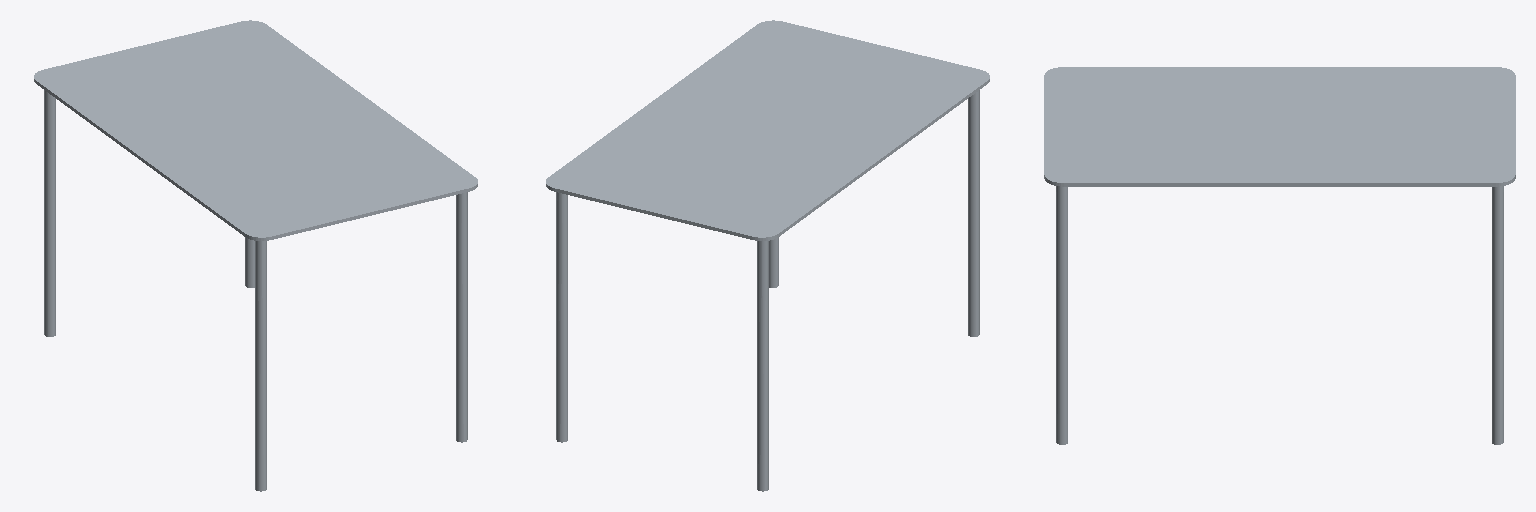
robot.urdf — worktable_120cm:
<?xml version='1.0' encoding='utf-8'?>
<robot name="worktable_120cm">
  <link name="worktable_120cm_base">
    <visual name="part_00">
      <geometry>
        <mesh filename="../meshes/part_00.stl" />
      </geometry>
      <material name="part_00_color">
        <color rgba="0.72 0.75 0.78 1" />
      </material>
    </visual>
  </link>
</robot>

--- Render facts (derived) ---
The picture shows the robot from 3 angles, left to right: view 1: azimuth 30°, elevation 25°; view 2: azimuth 150°, elevation 25°; view 3: azimuth 270°, elevation 25°; orthographic projection.
Robot: worktable_120cm — 1 links, 0 joints (none); root link worktable_120cm_base; default pose: all joints at 0.
Links seen in each view (by area): view 1: worktable_120cm_base; view 2: worktable_120cm_base; view 3: worktable_120cm_base.
Boxes of the visible links, left/top/right/bottom form: worktable_120cm_base: left=34, top=20, right=477, bottom=491; worktable_120cm_base: left=546, top=20, right=989, bottom=491; worktable_120cm_base: left=1044, top=67, right=1515, bottom=444.
Bounding box of the posed robot: 0.7 × 1.2 × 0.75 m (x, y, z).
Meshes: 1 distinct files referenced, 1 mesh visuals loaded (1 binary STL).
